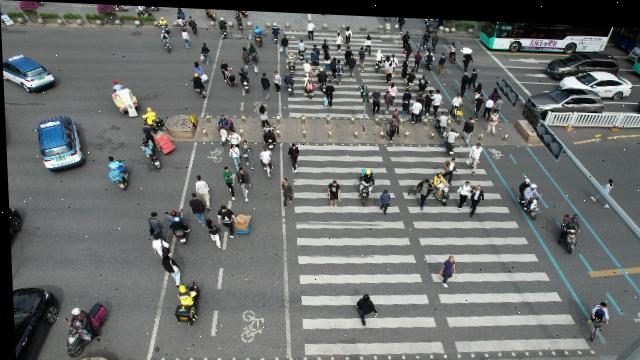non-motor-vehicle: (64, 299, 108, 344), (511, 171, 545, 216), (108, 79, 139, 118), (583, 296, 610, 337), (555, 209, 580, 246), (105, 155, 129, 189), (173, 280, 199, 311), (137, 137, 161, 167), (430, 166, 451, 200), (217, 111, 234, 142), (261, 121, 281, 147), (141, 106, 161, 128), (190, 73, 208, 97), (357, 167, 375, 190), (444, 121, 458, 150), (259, 147, 272, 177), (434, 108, 449, 133), (317, 64, 328, 91), (423, 44, 436, 66), (373, 46, 384, 68), (303, 79, 316, 97), (448, 36, 458, 59), (287, 50, 297, 72), (301, 70, 314, 85), (271, 20, 280, 41), (416, 71, 428, 86), (425, 15, 436, 31), (241, 70, 250, 89), (224, 73, 235, 87), (358, 166, 373, 175), (255, 29, 263, 45), (160, 17, 169, 29), (255, 25, 263, 35)
person: (140, 120, 176, 150), (323, 171, 344, 210), (590, 169, 613, 204), (436, 248, 456, 284), (354, 290, 375, 321), (469, 179, 486, 216), (185, 192, 210, 213), (221, 163, 235, 198), (236, 164, 250, 199), (455, 173, 471, 203), (239, 138, 255, 167), (276, 175, 292, 202), (377, 185, 394, 210), (149, 235, 168, 256), (441, 149, 456, 174), (416, 175, 428, 206), (228, 141, 242, 167), (461, 112, 474, 140), (191, 173, 208, 194), (458, 67, 470, 95), (370, 84, 381, 112), (487, 104, 498, 132), (381, 87, 393, 112), (390, 104, 402, 129), (385, 77, 398, 100), (323, 78, 334, 105), (387, 113, 398, 140), (304, 17, 317, 39), (226, 128, 239, 150), (346, 50, 357, 76), (432, 85, 442, 113), (474, 88, 484, 115), (411, 95, 421, 122), (309, 46, 320, 70), (460, 44, 473, 64), (146, 211, 159, 231), (311, 40, 322, 62), (400, 96, 411, 118), (300, 56, 314, 73), (468, 138, 483, 153), (280, 31, 290, 53), (420, 26, 431, 46), (401, 27, 413, 45), (296, 36, 306, 57), (385, 59, 395, 80), (405, 65, 415, 86), (217, 16, 228, 35), (403, 40, 414, 59), (388, 49, 399, 68), (484, 90, 492, 116), (357, 43, 366, 66), (218, 59, 230, 75), (287, 141, 299, 157), (181, 29, 191, 48), (416, 88, 424, 111), (425, 85, 432, 111), (344, 22, 353, 42), (402, 85, 412, 103), (258, 73, 269, 89), (474, 79, 483, 98), (383, 50, 392, 69), (191, 60, 203, 74), (452, 90, 464, 104), (394, 14, 406, 28), (344, 43, 353, 61), (414, 45, 421, 68), (335, 30, 343, 50), (431, 27, 439, 47), (401, 57, 409, 77), (188, 17, 197, 34), (490, 83, 499, 100), (495, 92, 503, 110), (461, 42, 473, 53), (363, 32, 371, 48), (440, 51, 449, 64), (258, 111, 267, 123), (259, 71, 268, 81), (470, 66, 478, 77)
